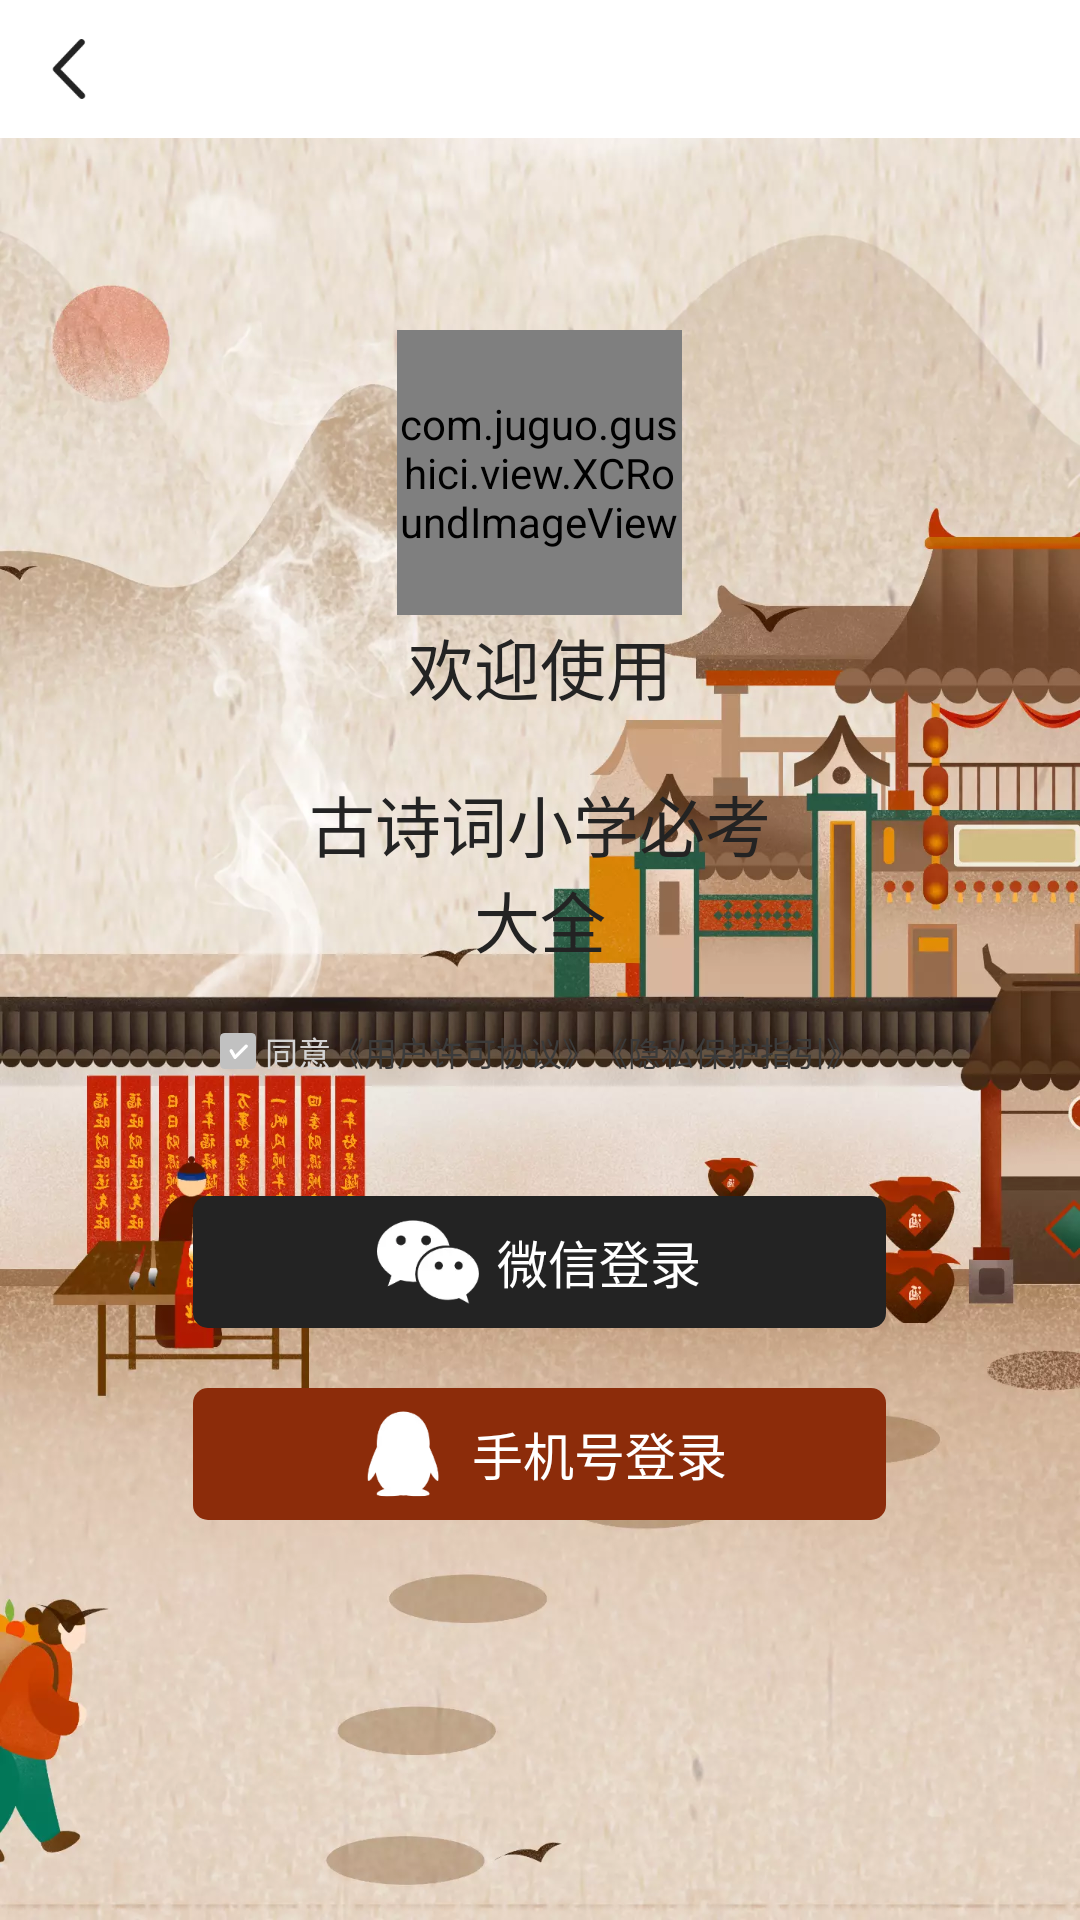

Where to tap for icons on this 1080x1920 app screen, as (x,y):
arrow left: (69,69)
click item sel: (238,1051)
